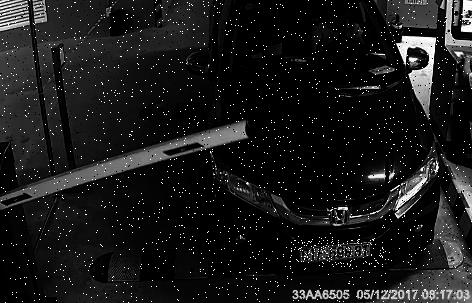License-plate: (292, 240, 388, 268)
